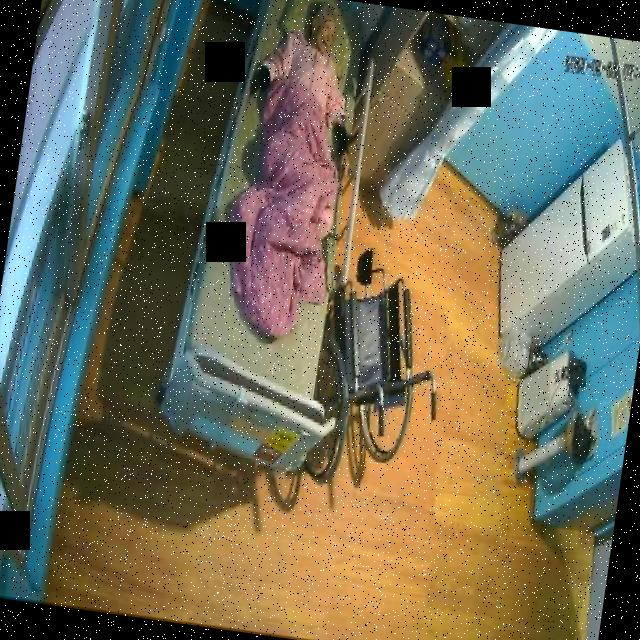bed: (158, 0, 380, 469)
lie: (213, 0, 369, 349)
patient: (242, 0, 374, 154)
